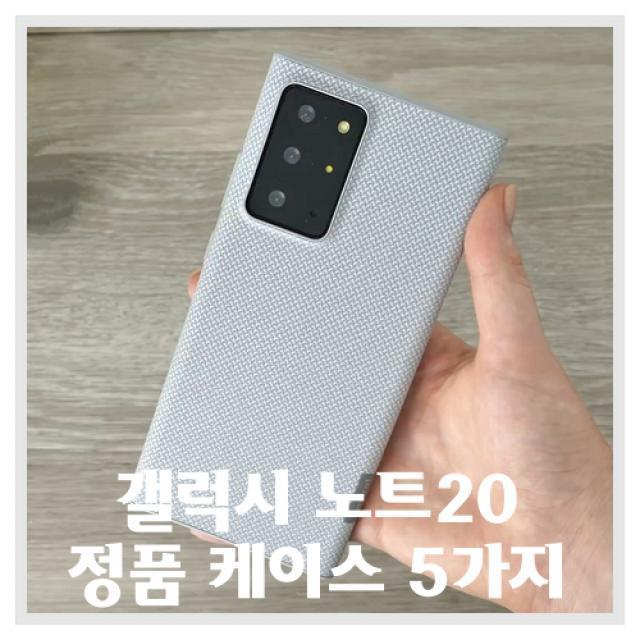phone: (129, 52, 509, 585)
